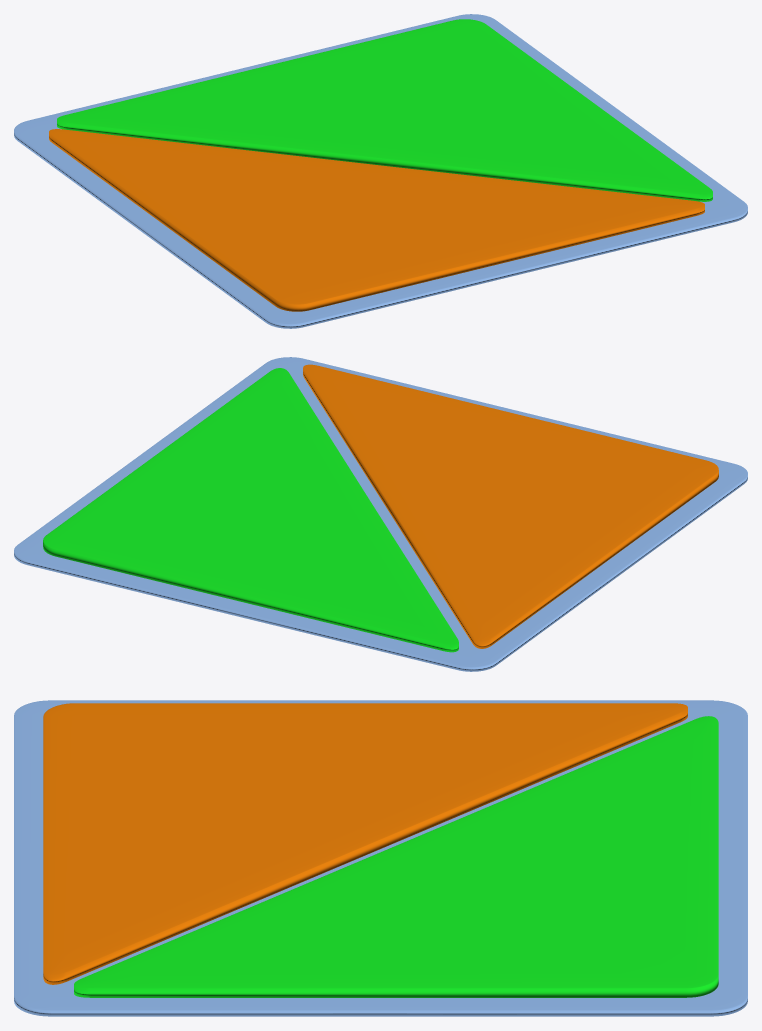
The model's file is For2Ground.fbx.
3 views of the same model, one above another, from view 1: azimuth 30°, elevation 25°; view 2: azimuth 150°, elevation 25°; view 3: azimuth 270°, elevation 25° (orthographic). The views are drawn at different scales.
Visible parts, largest first — view 1: First, Second, Floor; view 2: First, Second, Floor; view 3: First, Second, Floor.
Boxes of the visible parts, <box> form: First: <box>49,129,704,311</box>; Second: <box>57,19,712,201</box>; Floor: <box>14,14,747,328</box>; First: <box>303,364,718,648</box>; Second: <box>43,368,458,652</box>; Floor: <box>14,357,747,671</box>; First: <box>43,703,687,984</box>; Second: <box>74,716,718,997</box>; Floor: <box>14,700,747,1016</box>.
Bounding box in the file's own units: 200 × 5 × 200.
